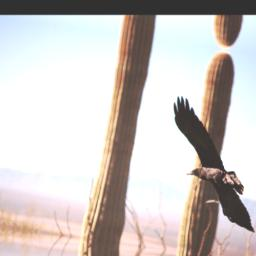Crow: (154, 93, 256, 236)
